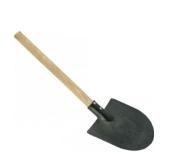PELLE: (10, 24, 172, 159)
